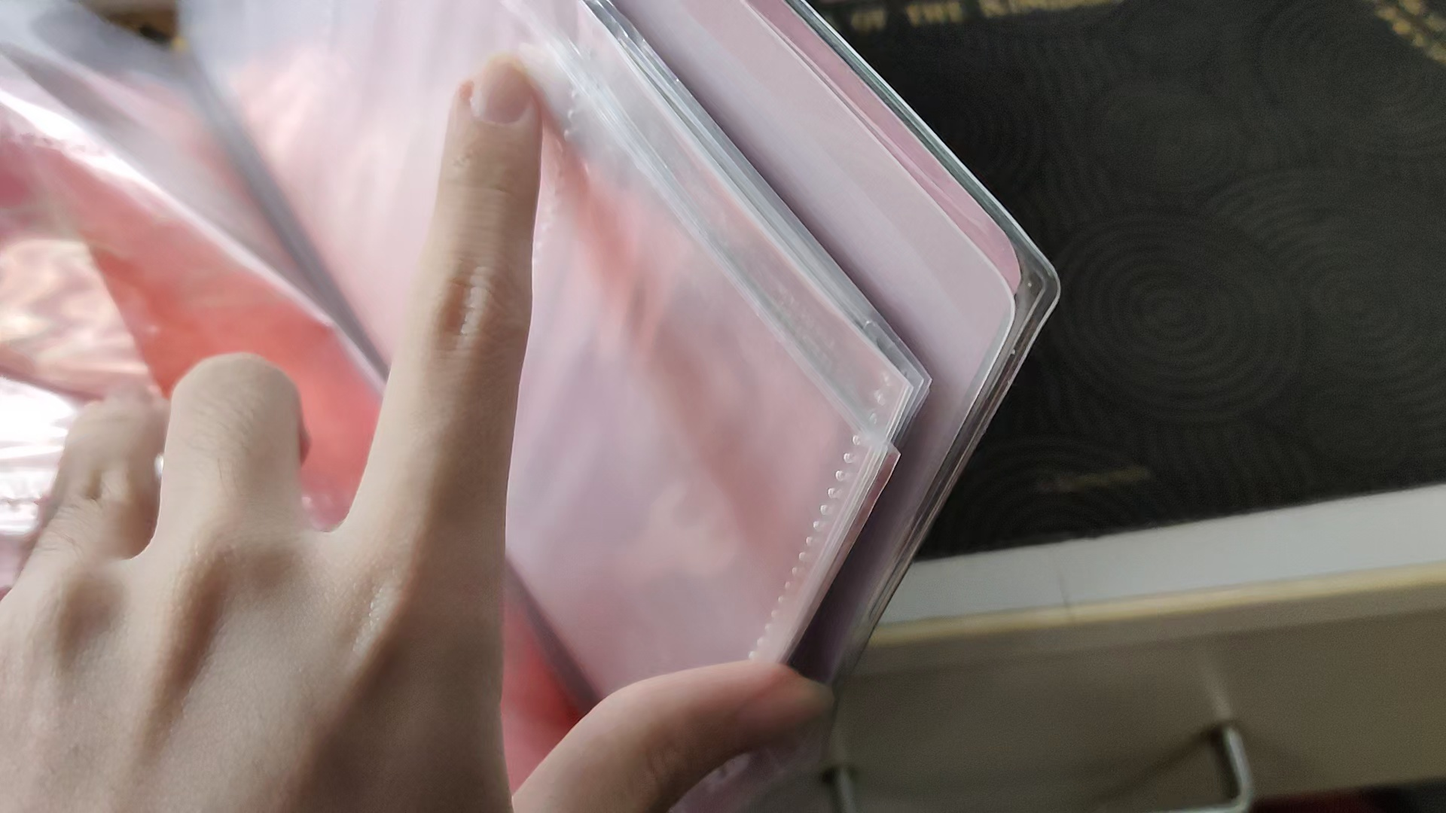Photo_book: (0, 0, 1061, 813)
